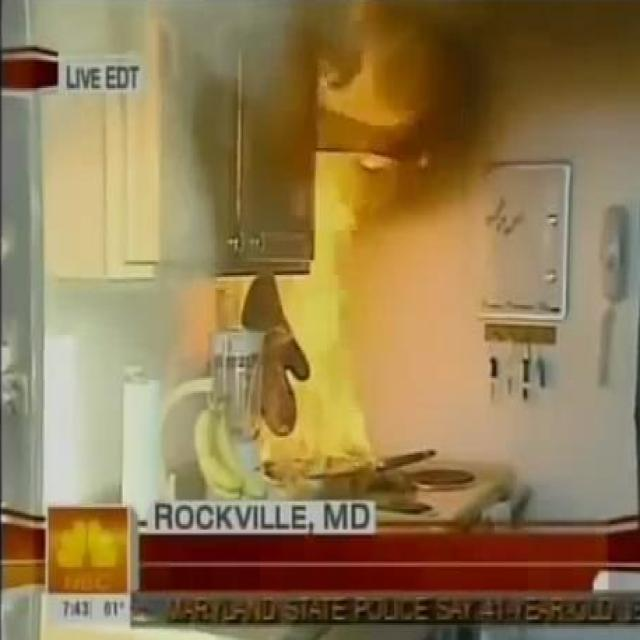fire: (1, 0, 358, 105), (373, 0, 508, 213)
smoke: (233, 46, 414, 477)
